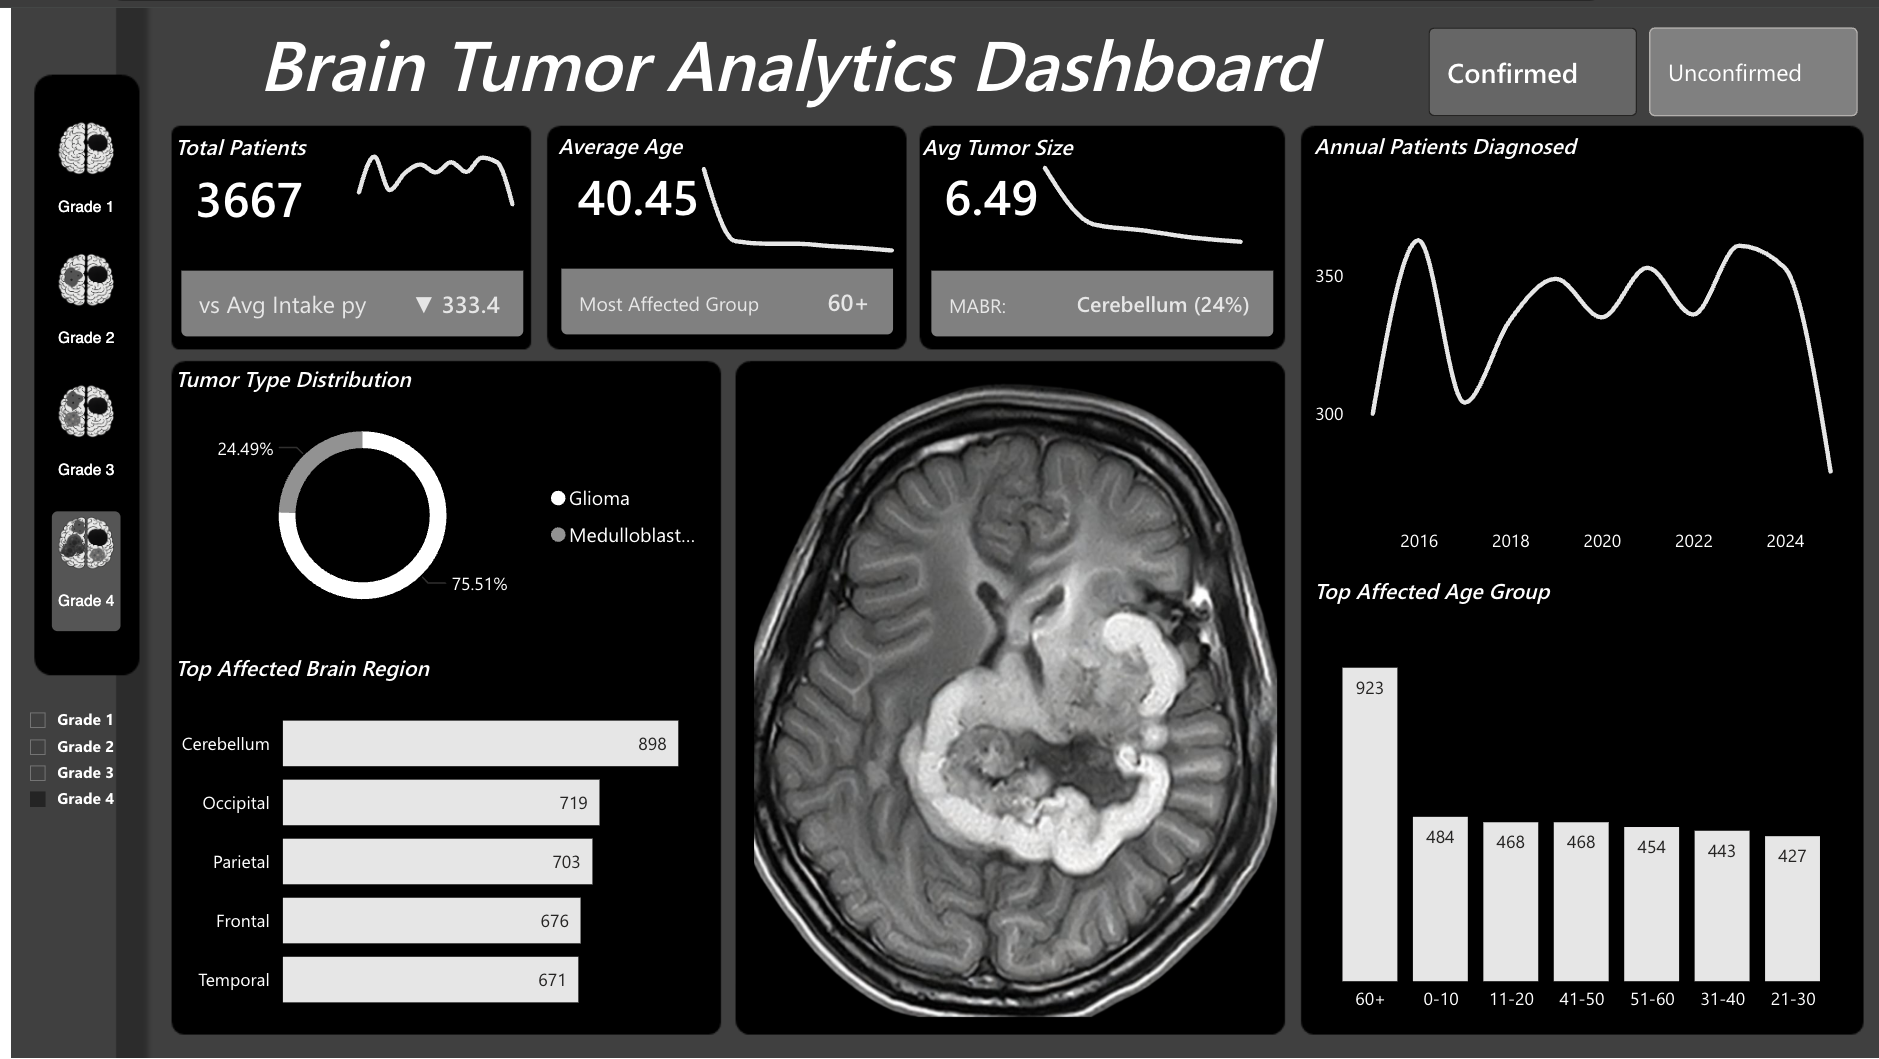

The page's visual inventory and layout, read from the dashboard file:
{"tool":"powerbi","page":{"name":"Page 1","canvas":[1280,720],"ordinal":0},"visuals":[{"type":"cardVisual","fields":{"Data":["Count(Brain Tumor Data.Patient ID)"]},"box":[97,79,187,97],"z":0},{"type":"lineChart","fields":{"Category":["Brain Tumor Data.Date of Diagnosis.Variation.Date Hierarchy.Year"],"Y":["CountNonNull(Brain Tumor Data.Patient ID)"]},"box":[223.4,73.5,135.1,78.4],"z":1000},{"type":"cardVisual","fields":{"Data":["Count(Brain Tumor Data.Patient ID)"]},"box":[87.4,80.4,292.9,173.8],"z":2000},{"type":"textbox","box":[107.2,79.4,176.8,41.7],"z":3000},{"type":"cardVisual","fields":{"Data":["Avg(Brain Tumor Data.Age)"]},"box":[358.5,78.4,186.7,96.3],"z":4000},{"type":"lineChart","fields":{"Y":["CountNonNull(Brain Tumor Data.Patient ID)"],"Category":["Brain Tumor Data.Age Group"]},"box":[460.8,87.4,155.9,87.4],"z":5000},{"type":"cardVisual","fields":{"Data":["Count(Brain Tumor Data.Patient ID)"]},"box":[347.6,79.4,286,173.8],"z":6000},{"type":"textbox","box":[369.4,78.4,209.5,37.7],"z":7000},{"type":"cardVisual","fields":{"Data":["Avg(Brain Tumor Data.Tumor Size (cm))"]},"box":[609.7,78.4,186.7,96.3],"z":8000},{"type":"lineChart","fields":{"Category":["Brain Tumor Data.Affected Brain Region"],"Y":["Sum(Brain Tumor Data.Tumor Size (cm))"]},"box":[689.2,89.4,170.8,87.4],"z":9000},{"type":"cardVisual","fields":{"Data":["Count(Brain Tumor Data.Patient ID)"]},"box":[600.8,80.4,292.9,173.8],"z":10000},{"type":"textbox","box":[618.7,79.4,168.8,36.7],"z":11000},{"type":"advancedSlicerVisual","fields":{"Values":["Brain Tumor Data.Histology Confirmation"]},"box":[965.2,7.9,304.9,71.5],"z":12000},{"type":"ChicletSlicer1448559807354","fields":{"Category":["Tumor Images.Tumor Grade"],"Image":["Tumor Images.Icon URL"]},"box":[18.9,65.5,68.5,400.2],"z":13000},{"type":"image","box":[497.5,233.4,380.3,476.6],"z":14000},{"type":"donutChart","fields":{"Category":["Brain Tumor Data.Tumor Type"],"Y":["CountNonNull(Brain Tumor Data.Patient ID)"]},"box":[107.2,266.1,376.4,161.9],"z":15000},{"type":"textbox","box":[107.2,238.3,353.5,30.8],"z":16000},{"type":"clusteredBarChart","fields":{"Category":["Brain Tumor Data.Affected Brain Region"],"Y":["CountNonNull(Brain Tumor Data.Patient ID)"]},"box":[106.3,458.8,383.3,244.3],"z":17000},{"type":"textbox","box":[107.2,435.9,209.5,35.7],"z":18000},{"type":"lineChart","fields":{"Category":["Brain Tumor Data.Date of Diagnosis.Variation.Date Hierarchy.Year"],"Y":["CountNonNull(Brain Tumor Data.Patient ID)"]},"box":[886.8,113.2,376.4,270.1],"z":19000},{"type":"textbox","box":[886.8,78.4,257.2,30.8],"z":20000},{"type":"textbox","box":[886.8,383.3,257.2,30.8],"z":21000},{"type":"clusteredColumnChart","fields":{"Category":["Brain Tumor Data.Age Group"],"Y":["CountNonNull(Brain Tumor Data.Patient ID)"]},"box":[886.8,414.1,376.4,282],"z":22000},{"type":"textbox","box":[106.3,0,851,79.4],"z":23000},{"type":"slicer","fields":{"Values":["Brain Tumor Data.Tumor Grade"]},"box":[0,472.7,87.4,82.4],"z":24000}]}

Visuals, with their boxes in screenshot pixels (x1, y1, x2, y2), scaled from the page's 1280x720 canvas onto the 1879x1059 screenshot:
cardVisual - Count(Brain Tumor Data.Patient ID): select_region(142, 116, 417, 259)
lineChart - Brain Tumor Data.Date of Diagnosis.Variation.Date Hierarchy.Year x CountNonNull(Brain Tumor Data.Patient ID): select_region(328, 108, 526, 223)
cardVisual - Count(Brain Tumor Data.Patient ID): select_region(128, 118, 558, 374)
textbox: select_region(157, 117, 417, 178)
cardVisual - Avg(Brain Tumor Data.Age): select_region(526, 115, 800, 257)
lineChart - CountNonNull(Brain Tumor Data.Patient ID) x Brain Tumor Data.Age Group: select_region(676, 129, 905, 257)
cardVisual - Count(Brain Tumor Data.Patient ID): select_region(510, 117, 930, 372)
textbox: select_region(542, 115, 850, 171)
cardVisual - Avg(Brain Tumor Data.Tumor Size (cm)): select_region(895, 115, 1169, 257)
lineChart - Brain Tumor Data.Affected Brain Region x Sum(Brain Tumor Data.Tumor Size (cm)): select_region(1012, 131, 1262, 260)
cardVisual - Count(Brain Tumor Data.Patient ID): select_region(882, 118, 1312, 374)
textbox: select_region(908, 117, 1156, 171)
advancedSlicerVisual - Brain Tumor Data.Histology Confirmation: select_region(1417, 12, 1864, 117)
ChicletSlicer1448559807354 - Tumor Images.Tumor Grade x Tumor Images.Icon URL: select_region(28, 96, 128, 685)
image: select_region(730, 343, 1289, 1044)
donutChart - Brain Tumor Data.Tumor Type x CountNonNull(Brain Tumor Data.Patient ID): select_region(157, 391, 710, 630)
textbox: select_region(157, 350, 676, 396)
clusteredBarChart - Brain Tumor Data.Affected Brain Region x CountNonNull(Brain Tumor Data.Patient ID): select_region(156, 675, 719, 1034)
textbox: select_region(157, 641, 465, 694)
lineChart - Brain Tumor Data.Date of Diagnosis.Variation.Date Hierarchy.Year x CountNonNull(Brain Tumor Data.Patient ID): select_region(1302, 166, 1854, 564)
textbox: select_region(1302, 115, 1679, 161)
textbox: select_region(1302, 564, 1679, 609)
clusteredColumnChart - Brain Tumor Data.Age Group x CountNonNull(Brain Tumor Data.Patient ID): select_region(1302, 609, 1854, 1024)
textbox: select_region(156, 0, 1405, 117)
slicer - Brain Tumor Data.Tumor Grade: select_region(0, 695, 128, 816)
